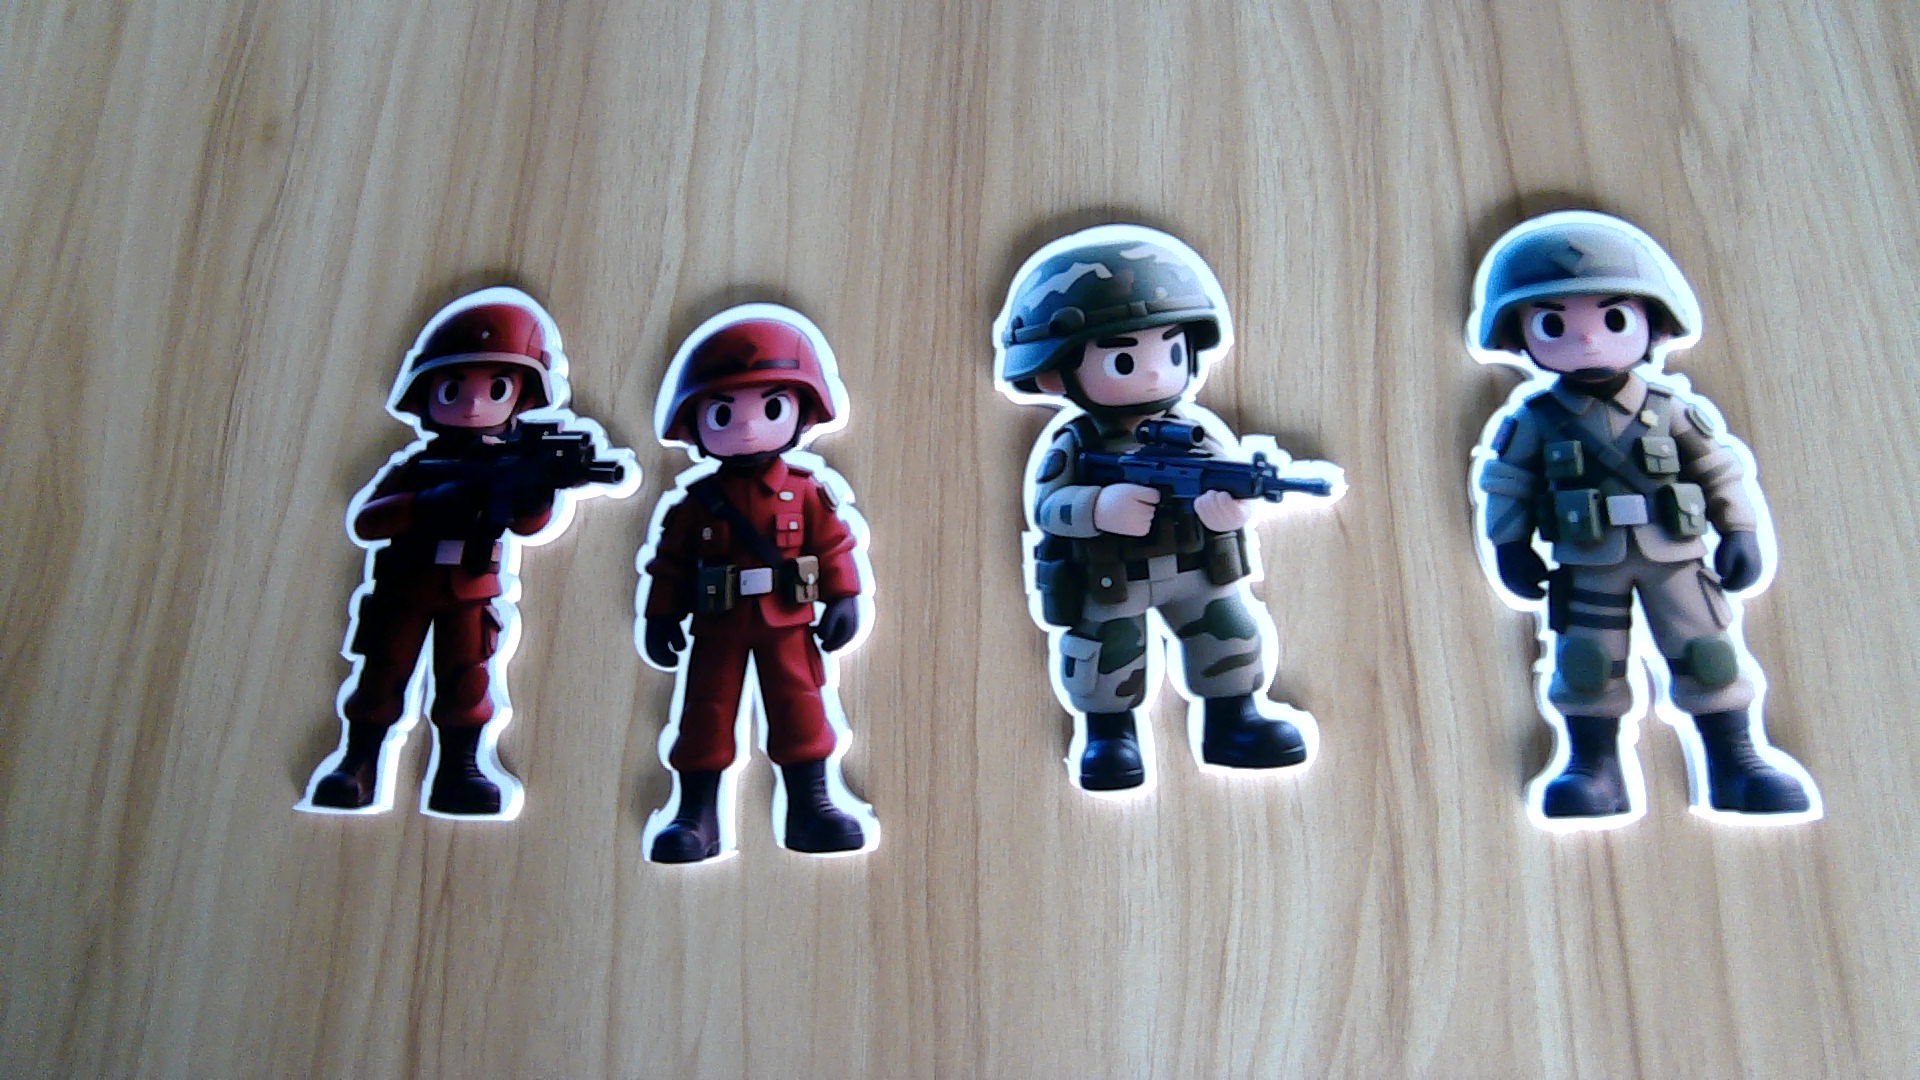友军: (1457, 372, 1844, 837), (1010, 411, 1352, 800)
敌人1: (284, 435, 629, 825), (620, 456, 899, 870)
